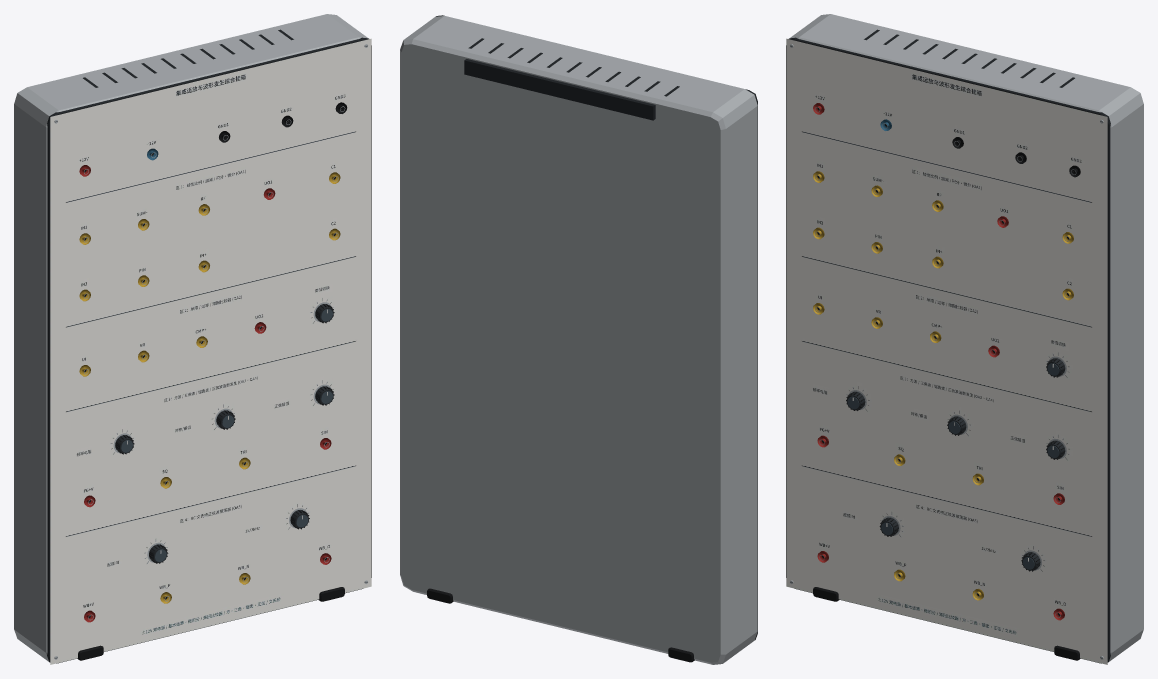
File: module.glb
3 views of the same model, side by side, from view 1: azimuth 30°, elevation 25°; view 2: azimuth 150°, elevation 25°; view 3: azimuth 330°, elevation 25° (orthographic).
Parts seen in each view (by area): view 1: PANEL_silkscreen, STATIC_paint, STATIC_metal; view 2: STATIC_paint; view 3: PANEL_silkscreen, STATIC_paint, STATIC_metal.
Part boxes in pixels (x1,y1,x2,y2): PANEL_silkscreen: (50,38,371,664); STATIC_paint: (14,14,371,663); STATIC_metal: (54,44,367,659); STATIC_paint: (400,15,757,664); PANEL_silkscreen: (786,38,1107,664); STATIC_paint: (786,14,1143,663); STATIC_metal: (790,44,1103,659).
Size of the model in its own units: 0.29 by 0.4701 by 0.0667.
9 materials, 1 textured.
